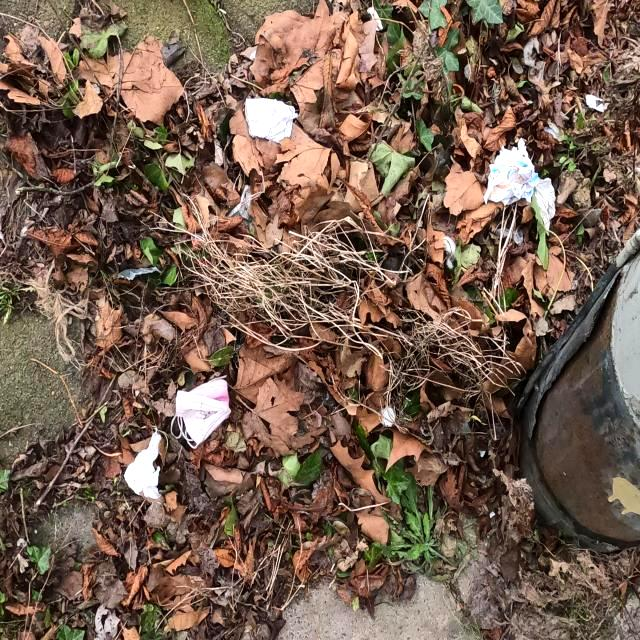Mask: (170, 371, 232, 451)
Paper: (482, 135, 538, 209), (124, 426, 162, 500), (244, 94, 298, 144), (534, 176, 556, 238)
